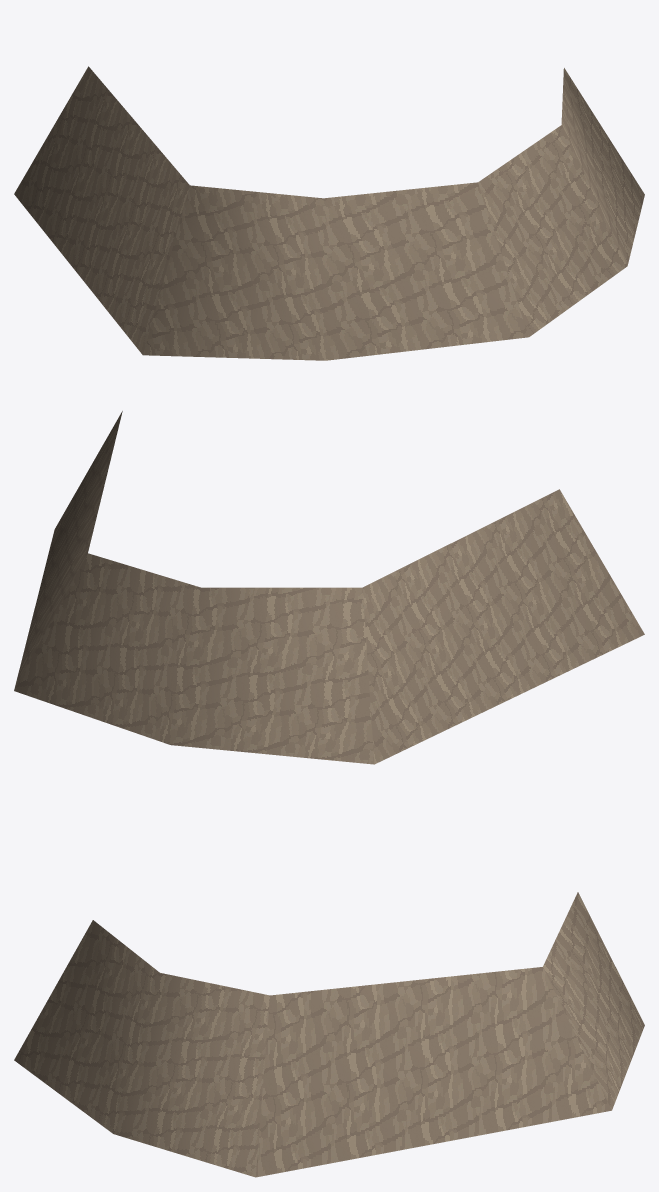
File: kd_stage_1363c5_1_5_bounded.glb
The picture shows the model from 3 angles, top to bottom: view 1: azimuth 30°, elevation 25°; view 2: azimuth 150°, elevation 25°; view 3: azimuth 270°, elevation 25°; orthographic projection. The views are drawn at different scales.
Parts seen in each view (by area): view 1: kd_stage_1363c5_1_5_bounded; view 2: kd_stage_1363c5_1_5_bounded; view 3: kd_stage_1363c5_1_5_bounded.
Boxes of the visible parts, left/top/right/bottom form: kd_stage_1363c5_1_5_bounded: left=14, top=66, right=644, bottom=360; kd_stage_1363c5_1_5_bounded: left=14, top=411, right=644, bottom=764; kd_stage_1363c5_1_5_bounded: left=14, top=892, right=644, bottom=1177.
Bounding box in the file's own units: 22.01 × 5.46 × 21.55.
1 material, 1 textured.
